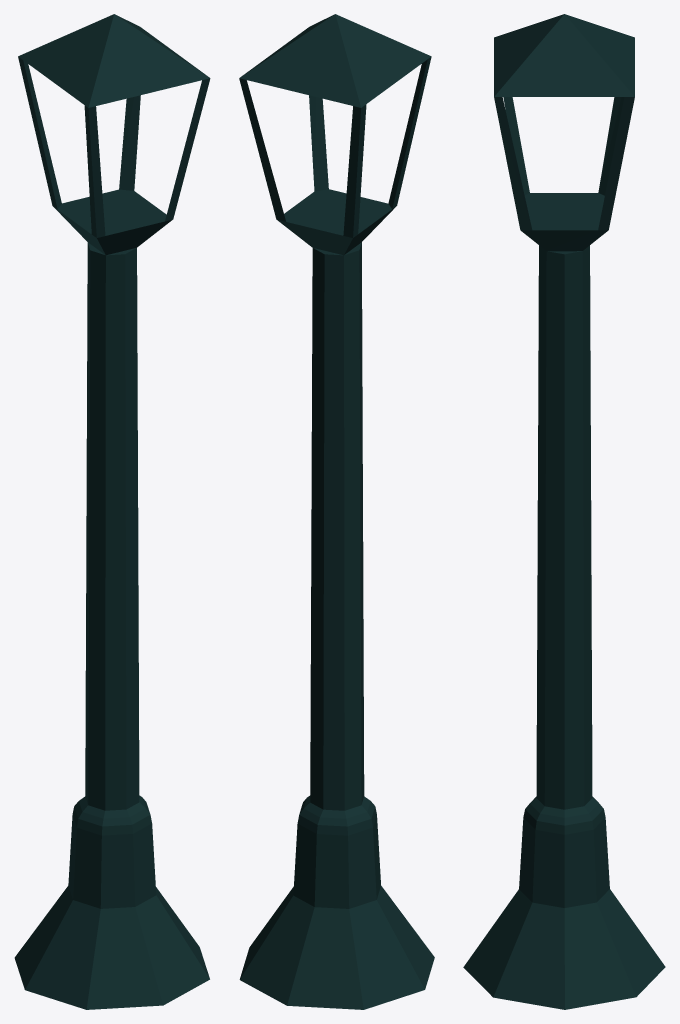
File: lamp_post_1.obj
3 renders of one model, left to right at view 1: azimuth 30°, elevation 25°; view 2: azimuth 150°, elevation 25°; view 3: azimuth 270°, elevation 25°, orthographic.
Visible parts, largest first — view 1: Cylinder; view 2: Cylinder; view 3: Cylinder.
Part boxes in pixels (left/top/right/bottom): Cylinder: left=14, top=14, right=210, bottom=1009; Cylinder: left=239, top=14, right=434, bottom=1009; Cylinder: left=463, top=14, right=665, bottom=1009.
Size of the model in its own units: 1.57 by 8.16 by 1.57.
